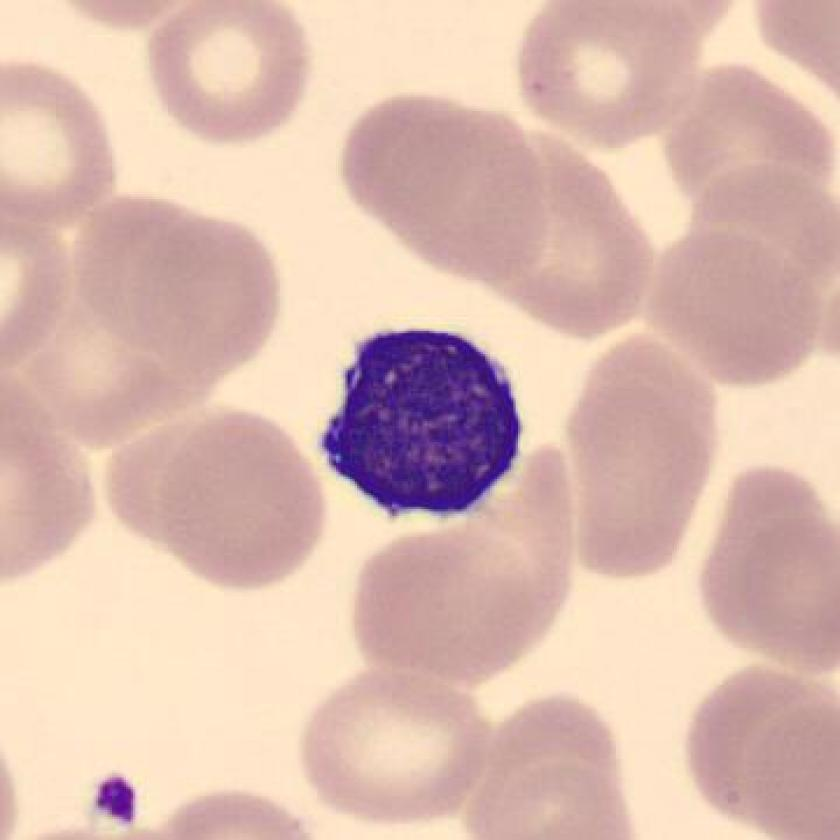lymphocyte: (300, 314, 545, 541)
